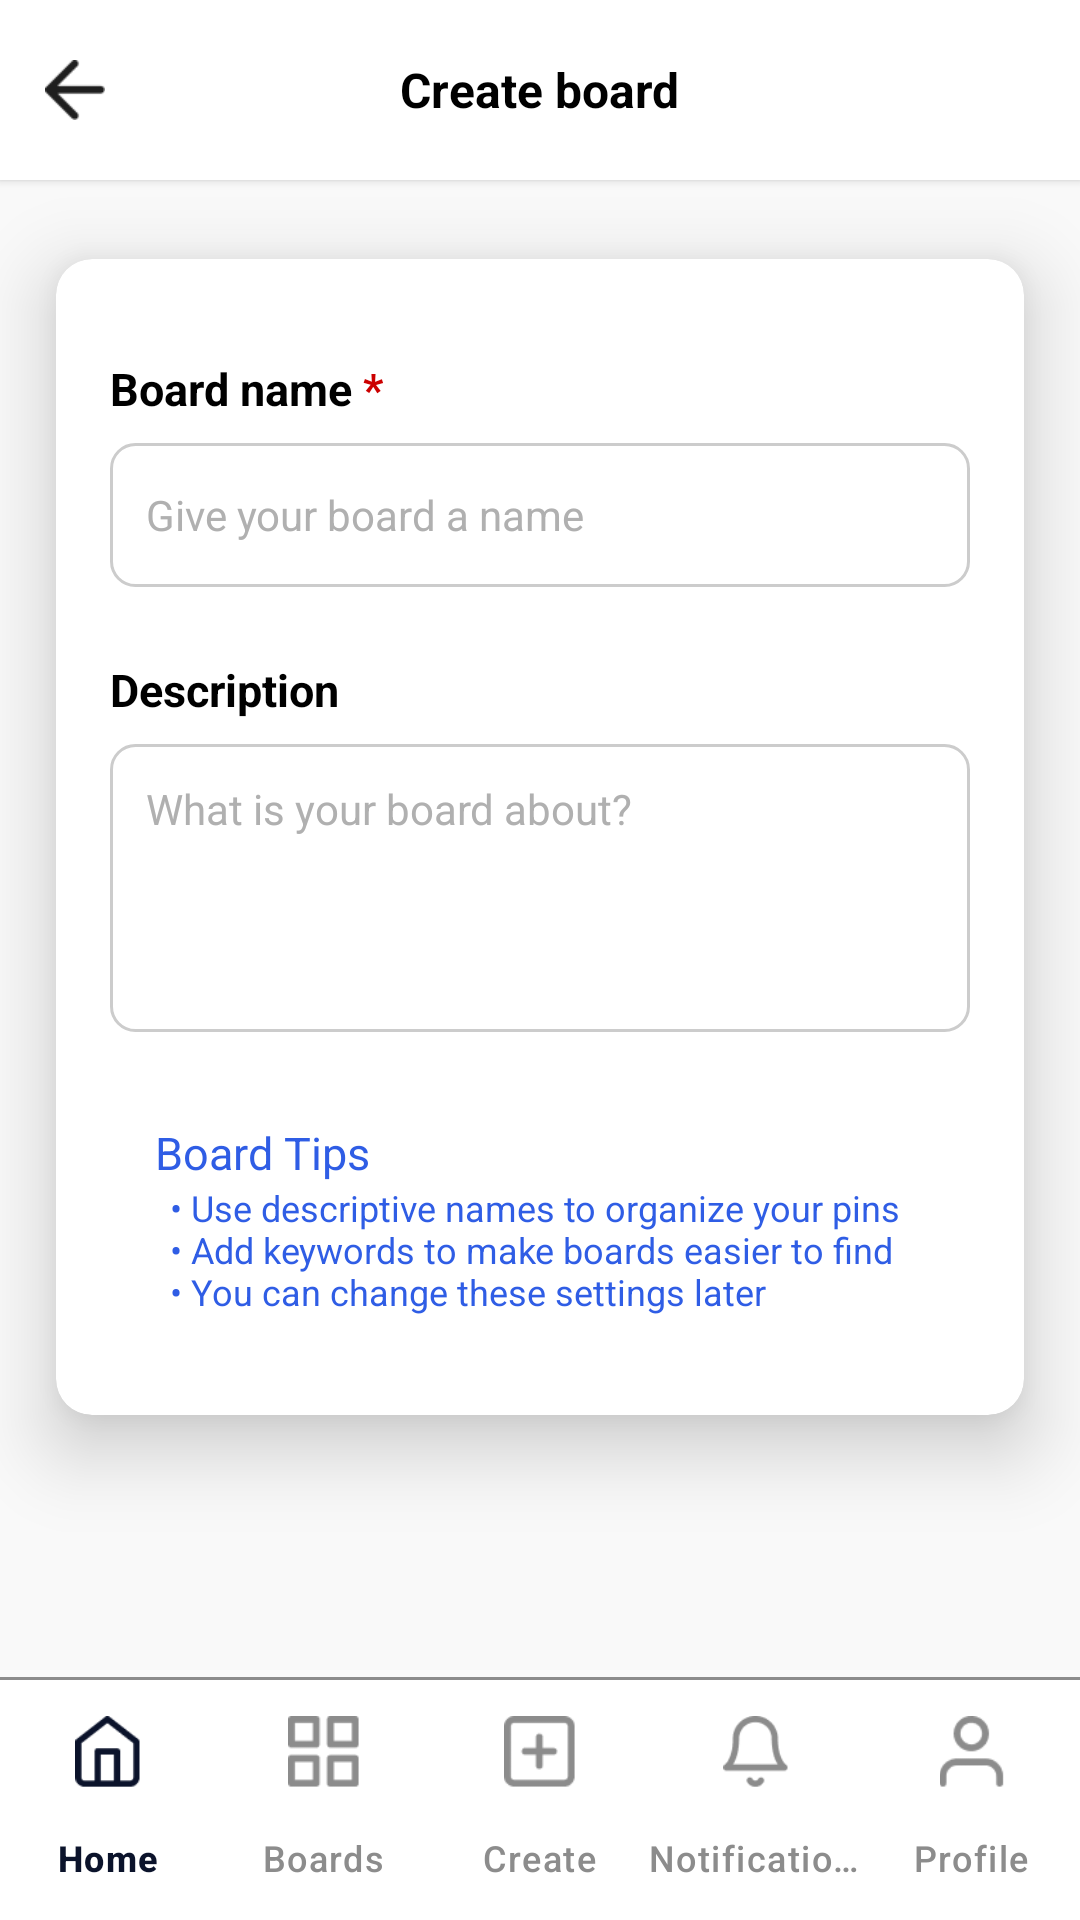

Icons on this 1080 × 1920 Android screen, each with the point to tap as [x,y]:
back: [75,90]
